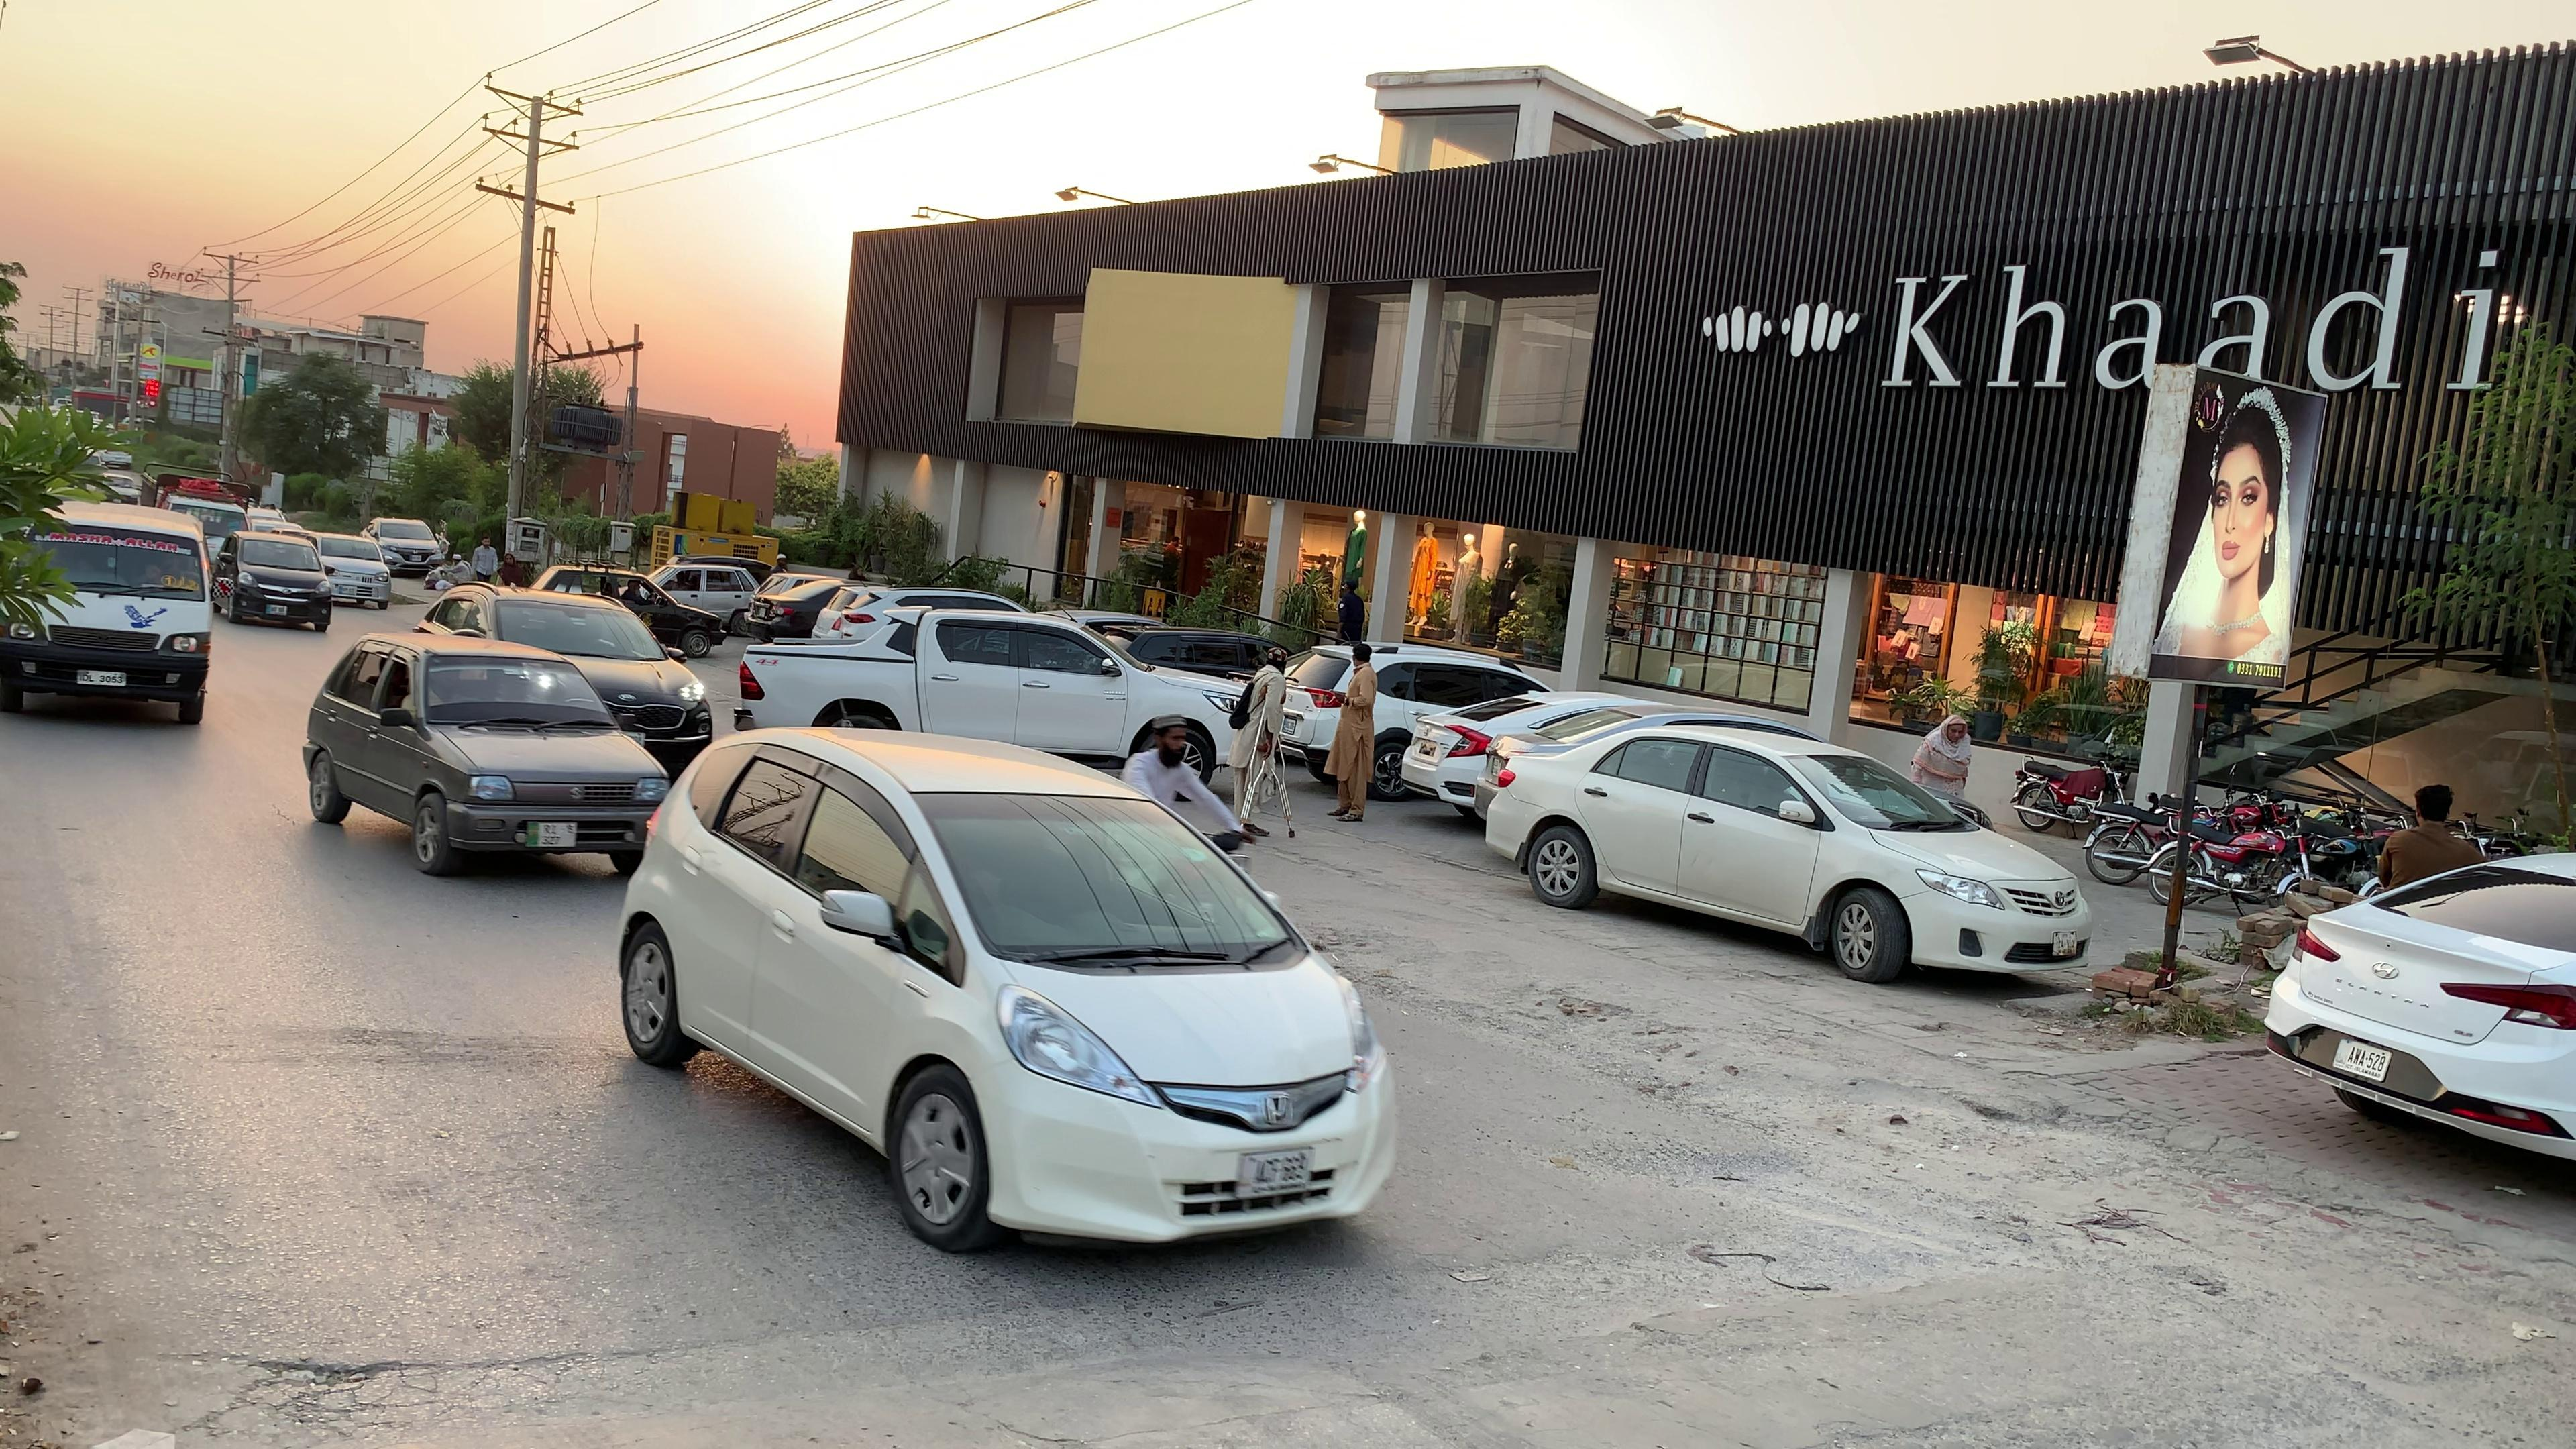windshield: (897, 789, 1329, 985), (407, 640, 632, 731)
